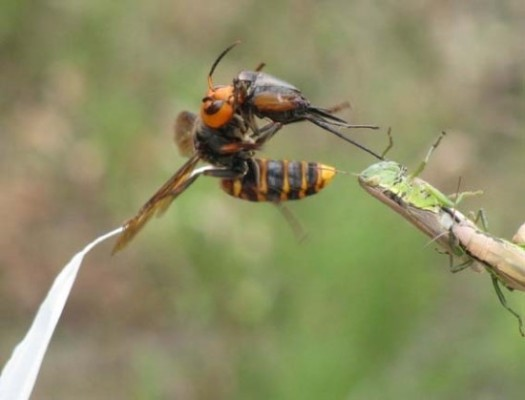asian_giant_hornet: (171, 81, 340, 205)
